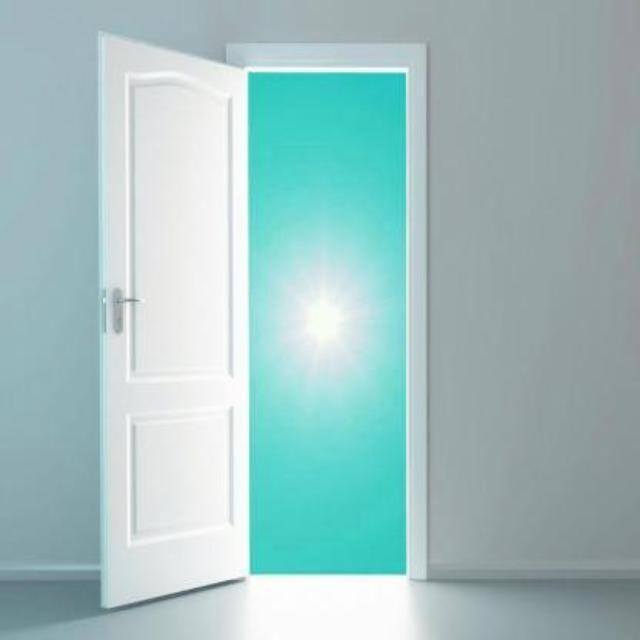door: (97, 30, 250, 609)
